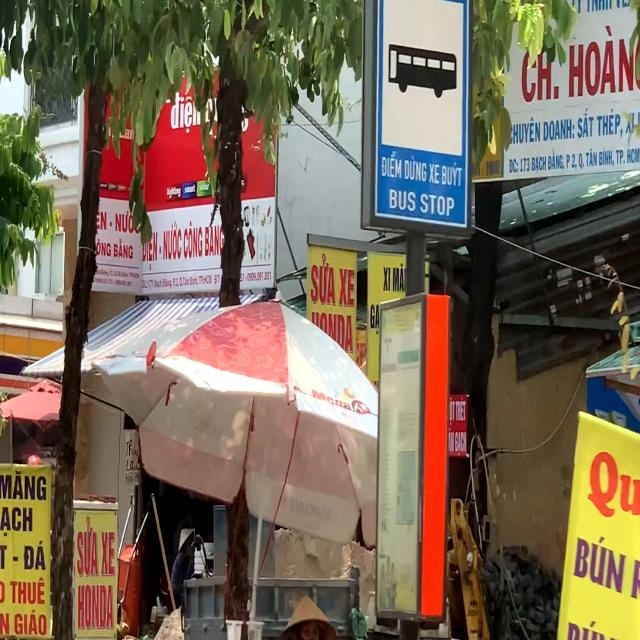bien_cam: (374, 0, 471, 230)
